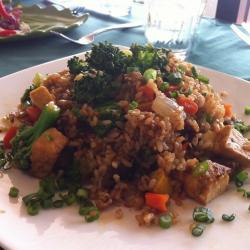rice: (41, 80, 218, 198)
